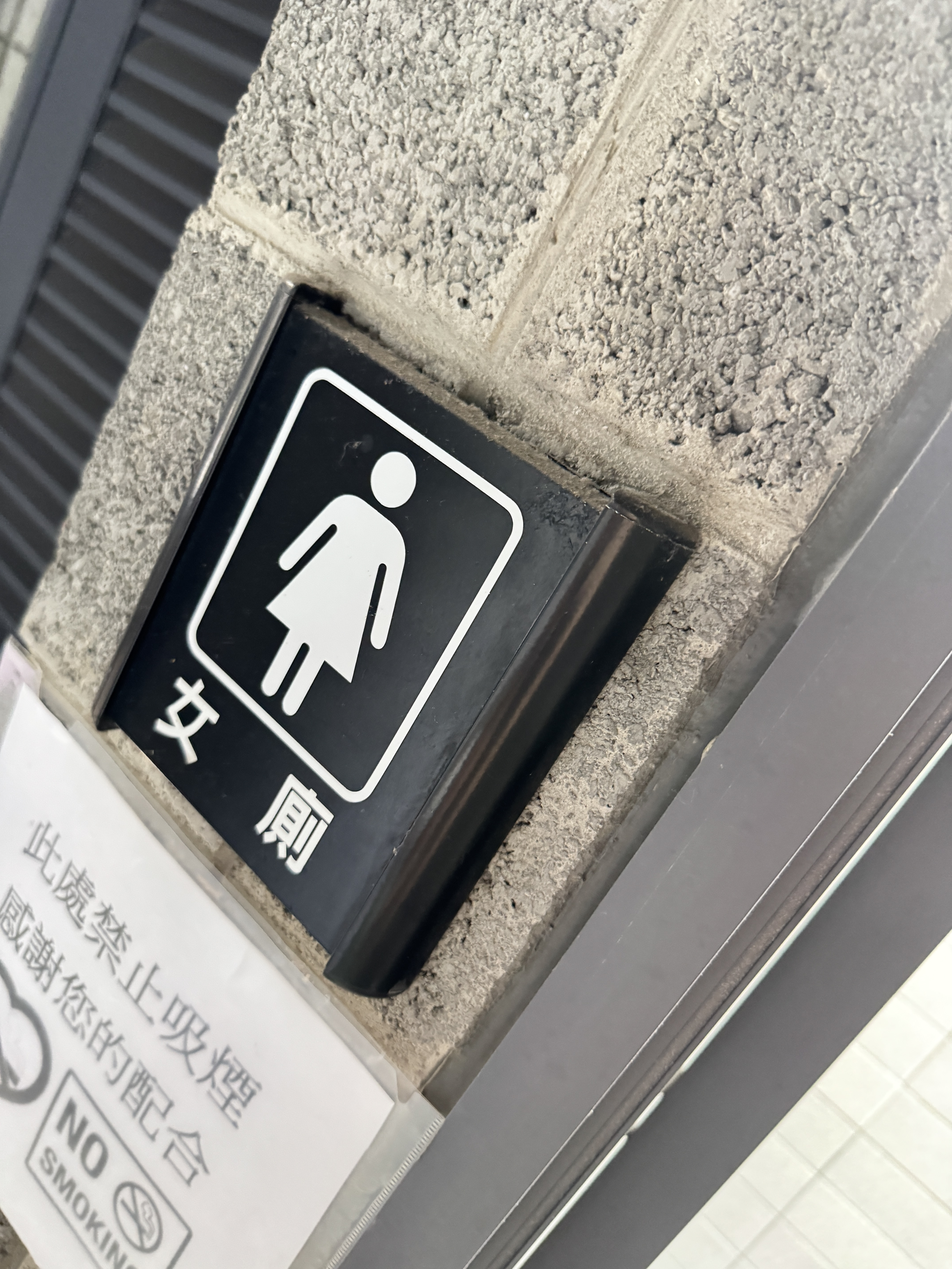toilet_sign: (82, 265, 694, 1001)
